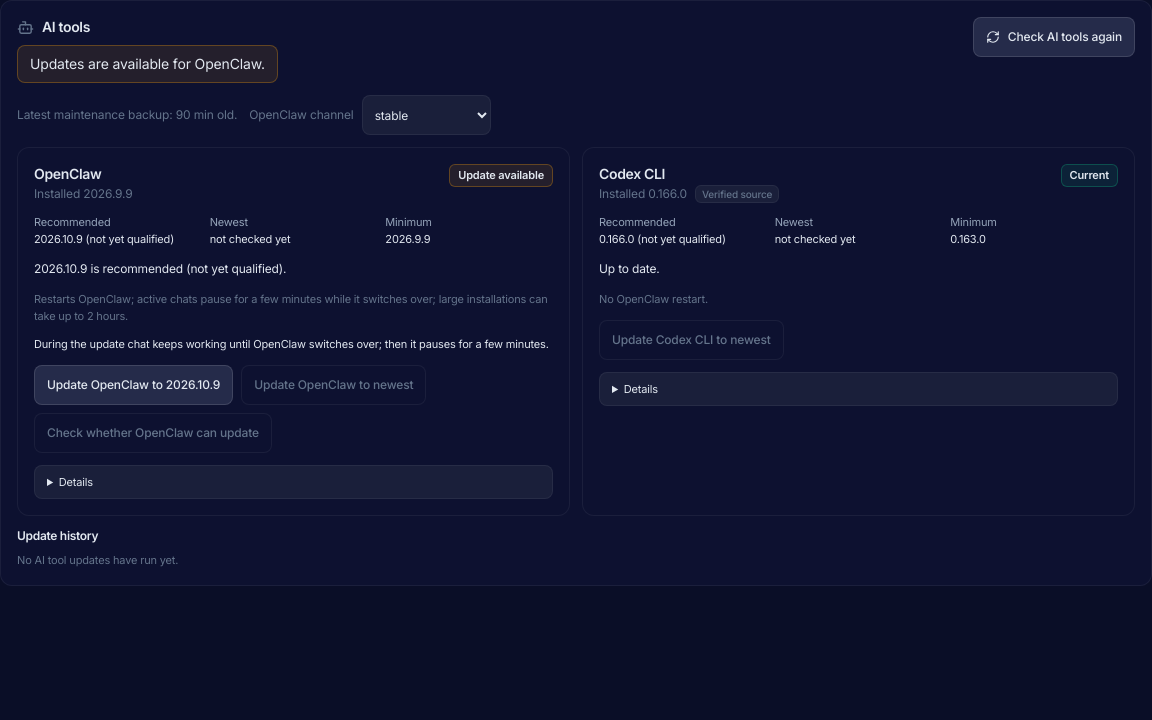
Test case: OpenClaw update consent review › in mode A says chat keeps working until the switch-over, then pauses
The width and height of the screenshot is (1152, 720).
Step 1. Click the button "Update OpenClaw to 2026.10.9" → (134, 384), box x1=34 y1=364 x2=233 y2=404
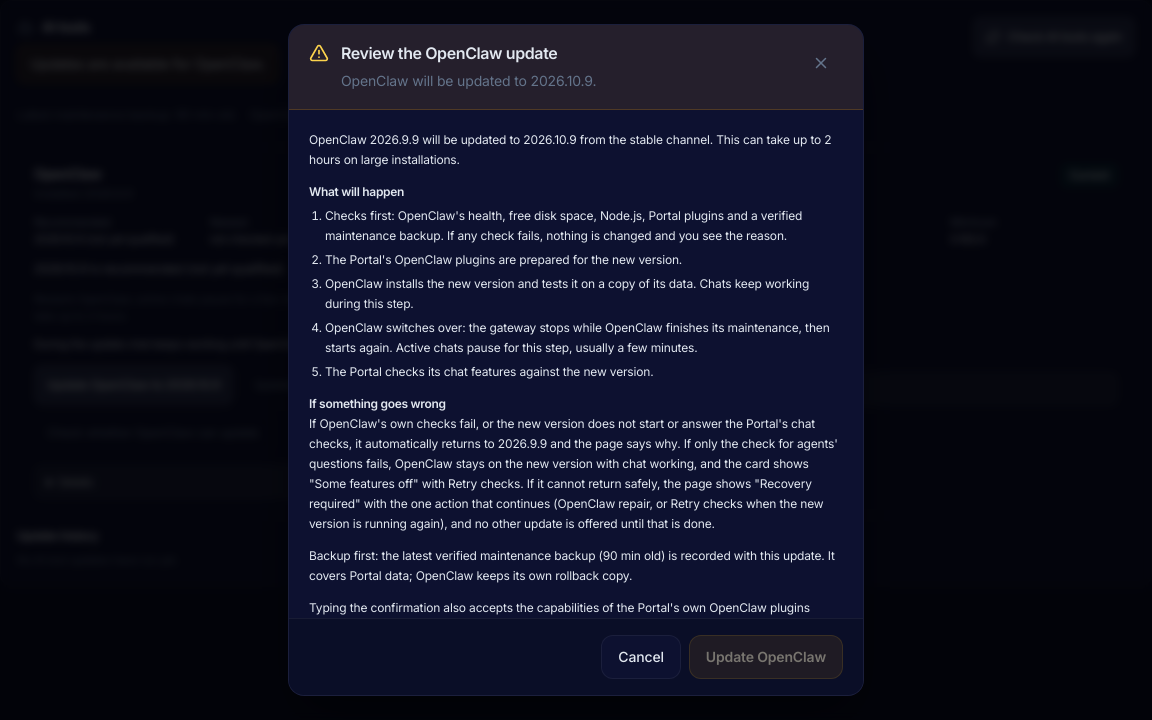
Check: the 3rd list item shows "OpenClaw installs the new version and tests it on a copy of its data. Chats keep working during this step.", box x1=325 y1=276 x2=809 y2=311
Check: the 4th list item shows "OpenClaw switches over: the gateway stops while OpenClaw finishes its maintenance, then starts again. Active chats pause for this step, usually a few minutes.", box x1=325 y1=320 x2=830 y2=355
